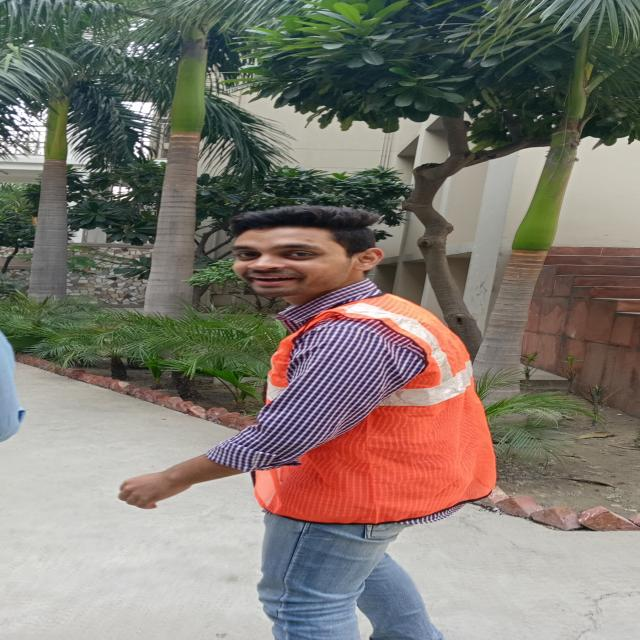unsafe: (129, 203, 492, 640)
